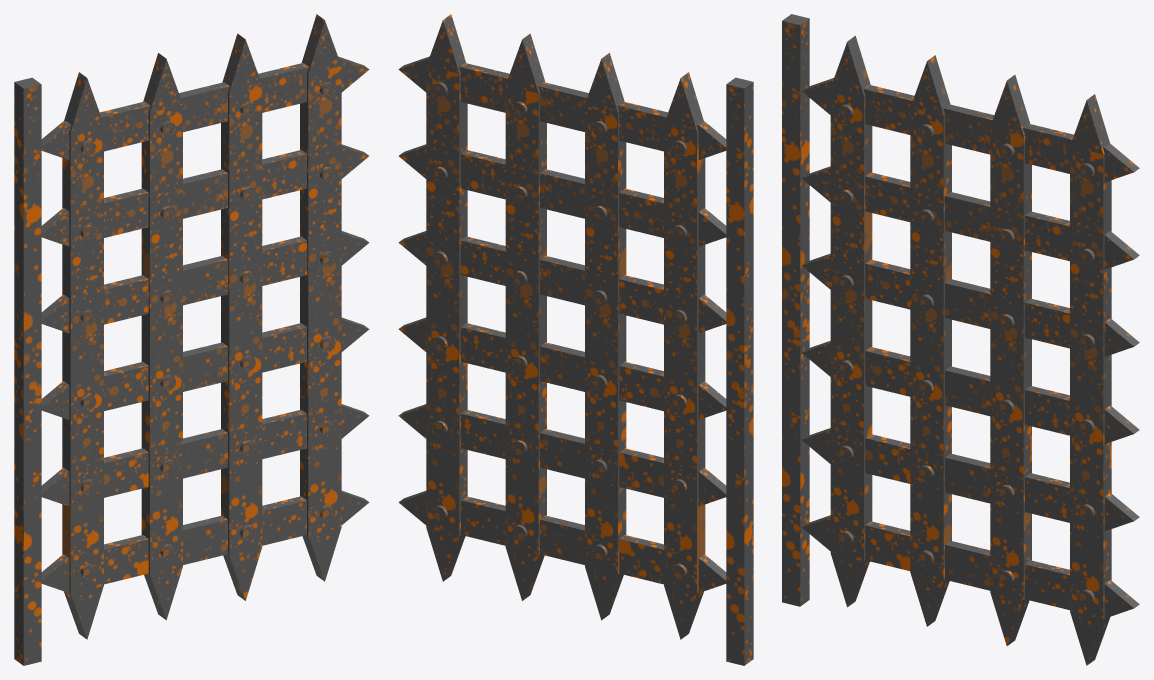
File: M_Cancelletto.fbx
The picture shows the model from 3 angles, left to right: view 1: azimuth 30°, elevation 25°; view 2: azimuth 150°, elevation 25°; view 3: azimuth 330°, elevation 25°; orthographic projection.
Parts seen in each view (by area): view 1: Cancelletto; view 2: Cancelletto; view 3: Cancelletto.
Boxes of the visible parts, x1,y1,x2,y2 form: Cancelletto: (14,14,369,665); Cancelletto: (398,14,753,665); Cancelletto: (782,14,1139,665).
Bounding box in the file's own units: 3.88 × 6.16 × 0.2456.
